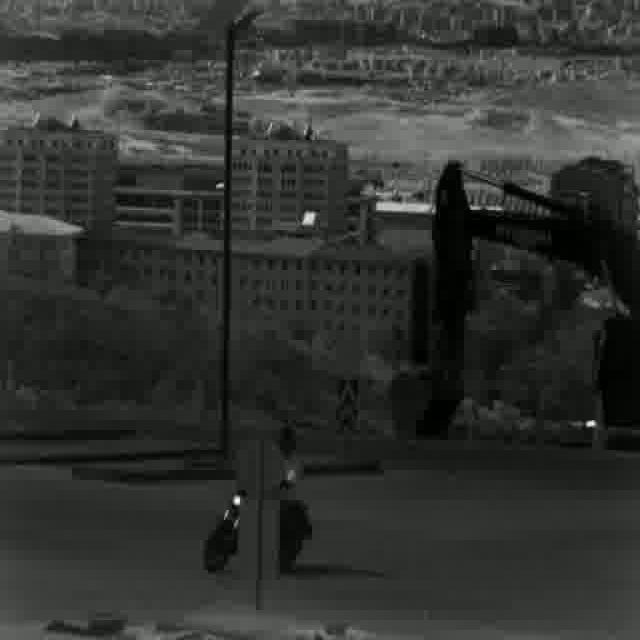Motorcycle: (200, 424, 318, 581)
